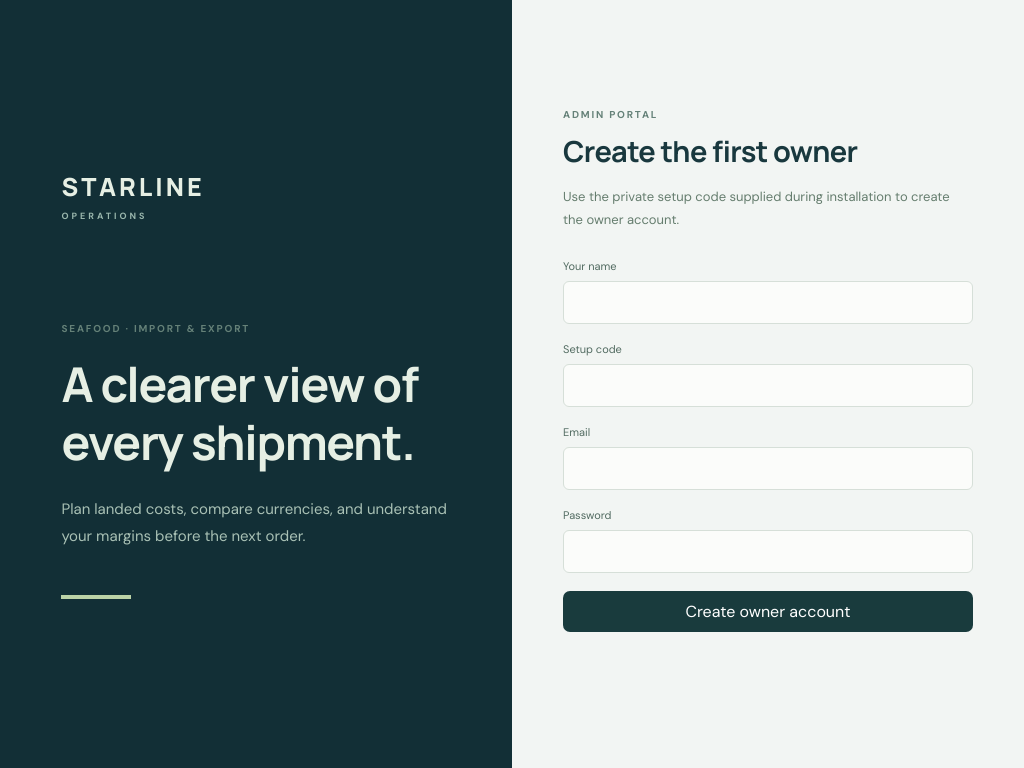
Test: first-owner setup requires the private setup code
Expected: the heading "Create the first owner" is shown, [563,131,858,171]
Type "Alex" into the field labelled "Your name" at (768, 302), box [563,281,973,324]
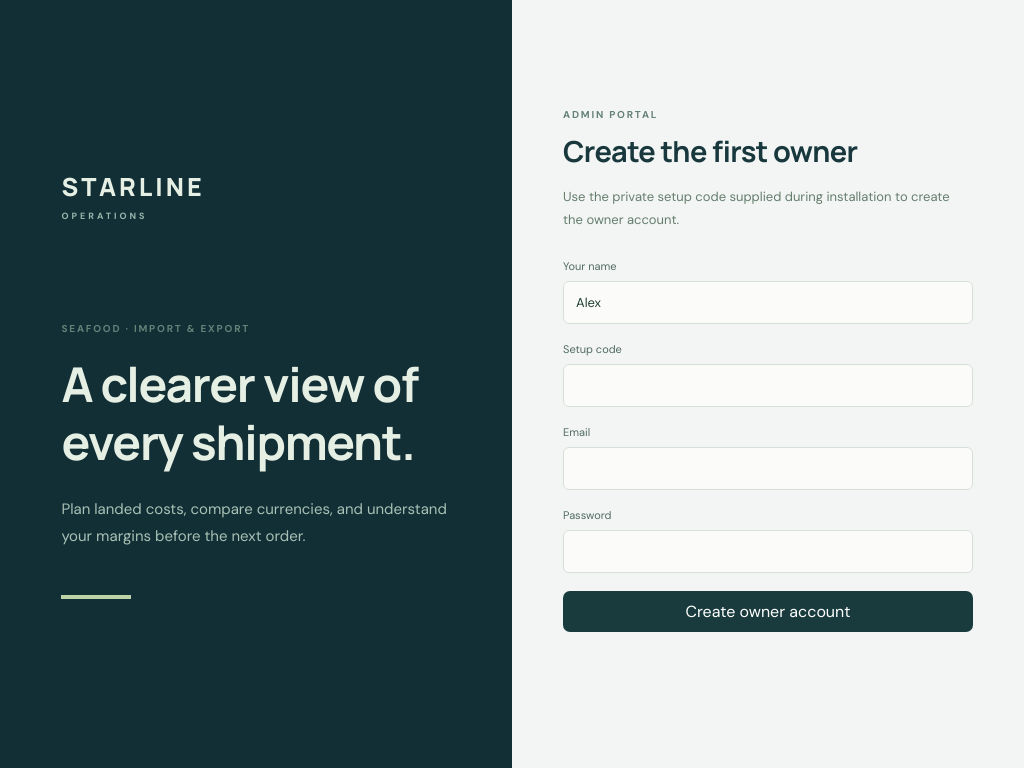
Type "ops@example.com" into the field labelled "Email" at (768, 468), box [563,447,973,490]
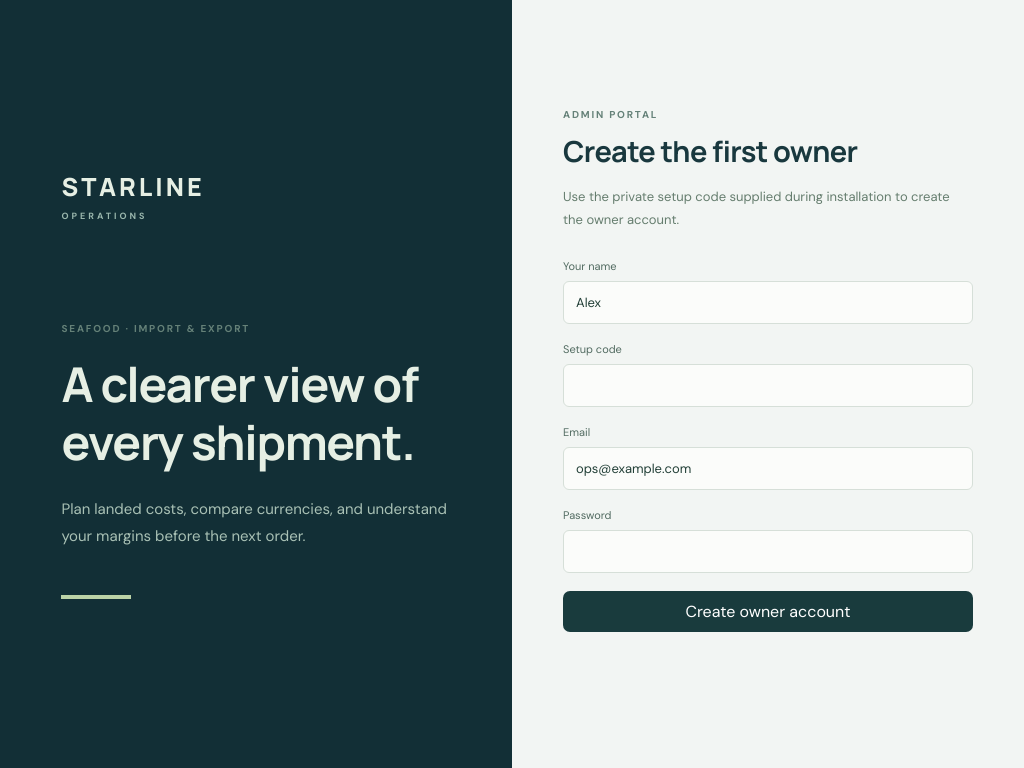
Type "example-password" into the password field labelled "Password" at (768, 551), box [563,530,973,573]
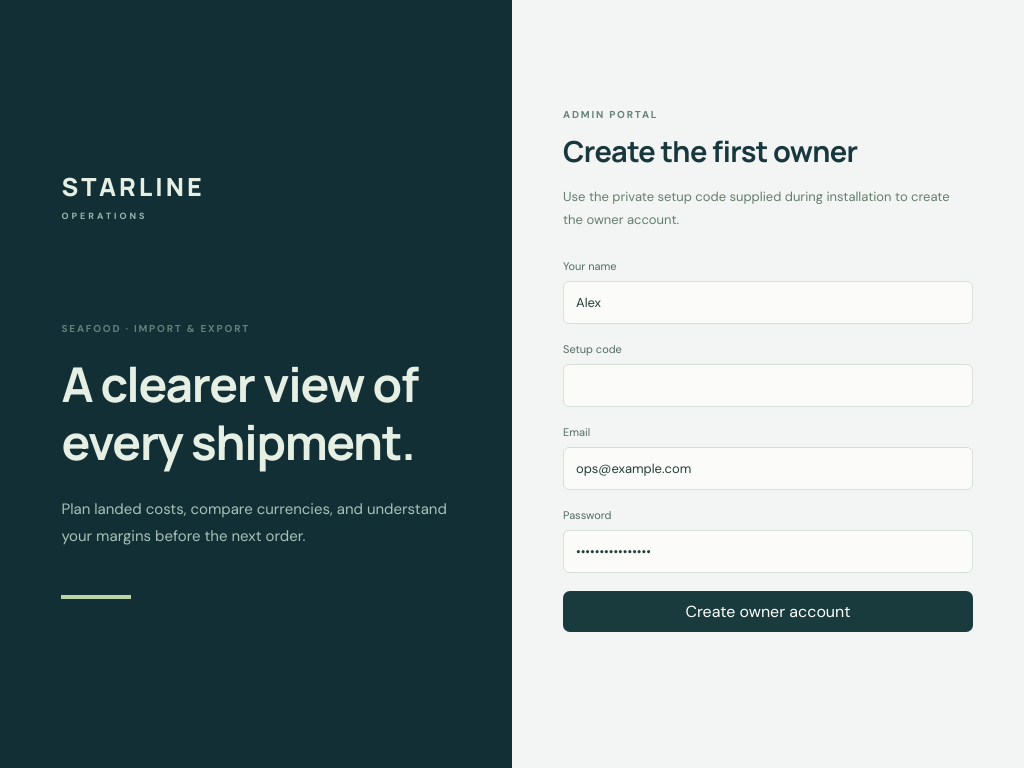
Type "invalid" into the password field labelled "Setup code" at (768, 385), box [563,364,973,407]
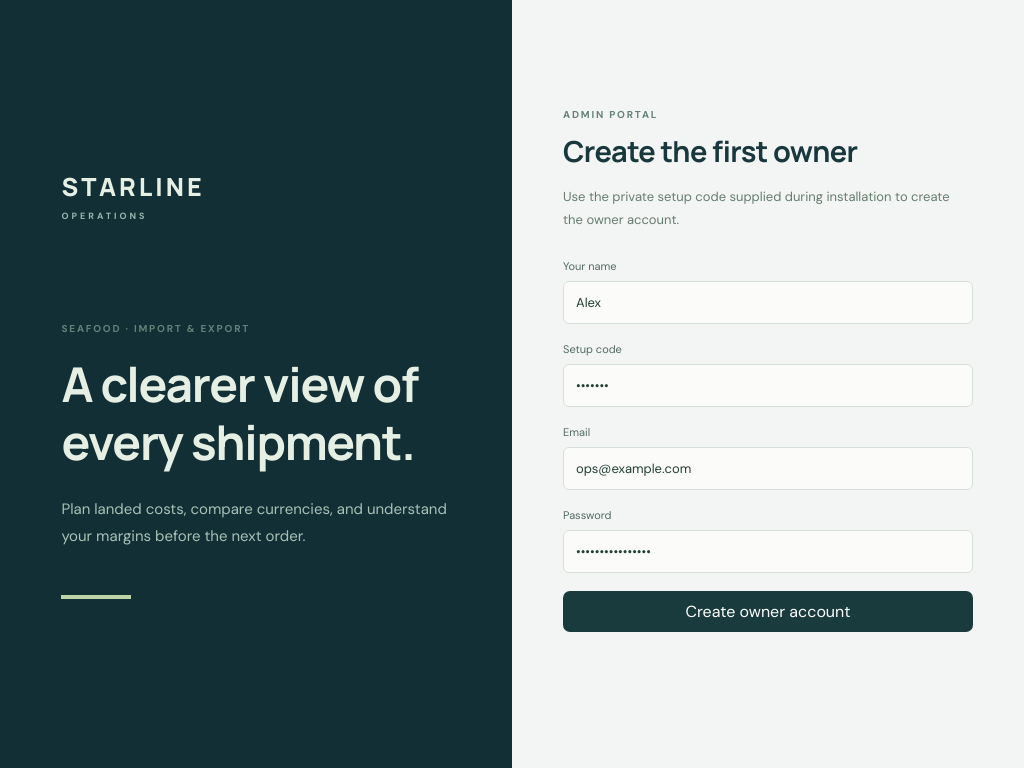
Click the button "Create owner account" at (768, 611), box [563,591,973,632]
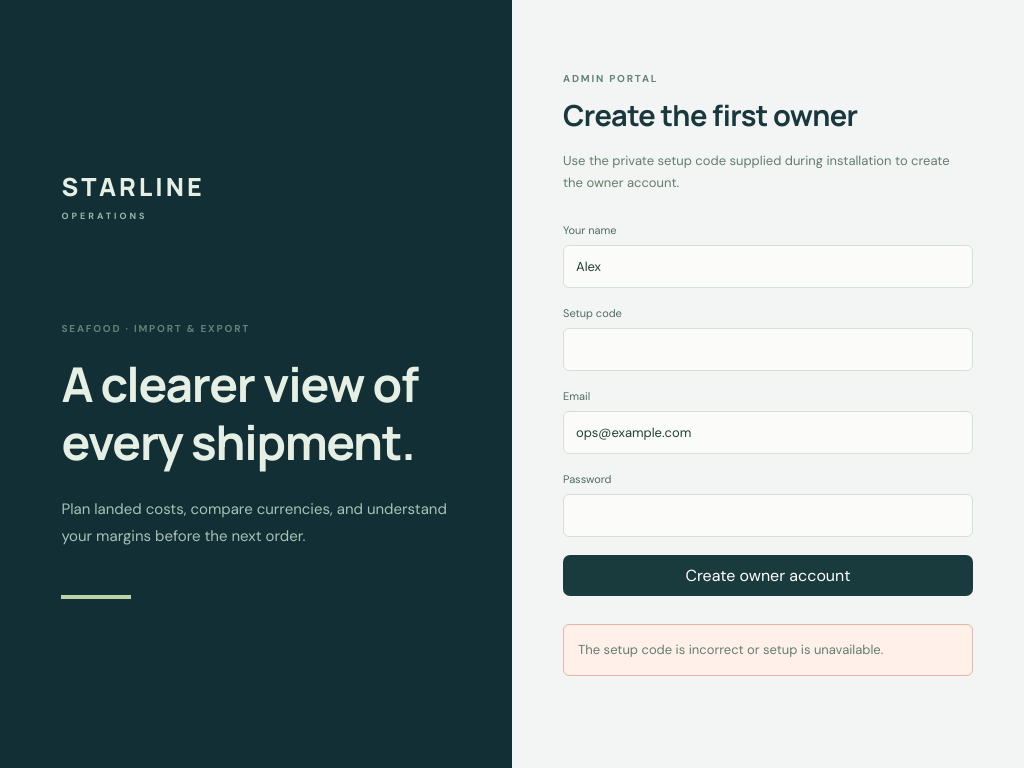
Expected: the message "The setup code is incorrect or setup is unavailable." is shown, [563,624,973,676]
